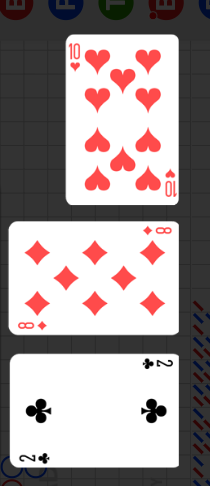10H: (69, 42, 83, 74), (164, 167, 178, 198)
2C: (18, 450, 52, 464)
